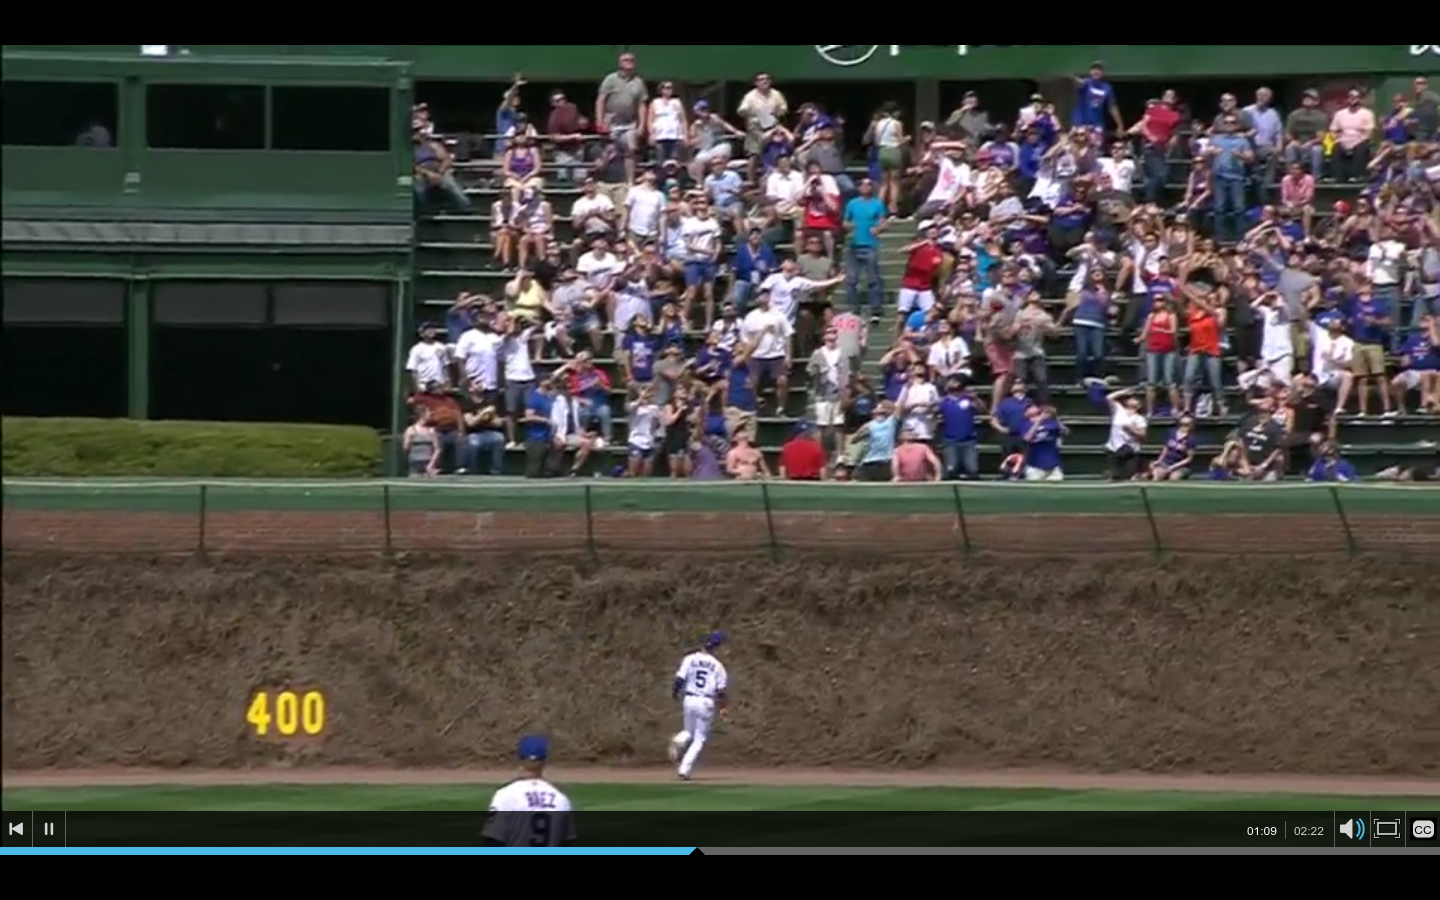baseball player: (476, 740, 595, 843), (659, 631, 738, 785)
